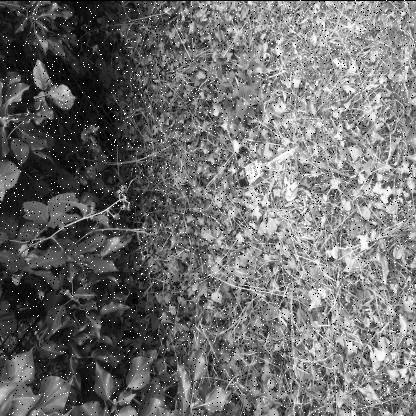glass: (228, 143, 300, 197)
